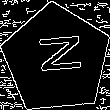N_W: (30, 37, 83, 81)
